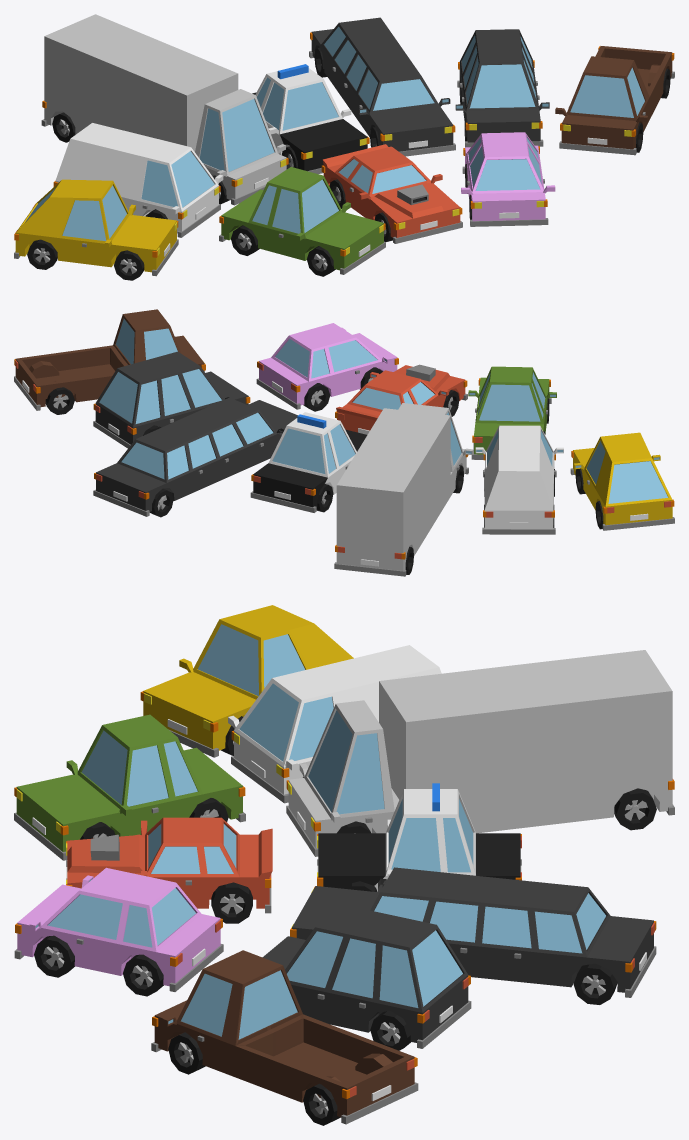
Rendered from cine-own-cars.glb.
3 views of the same model, one above another, from view 1: azimuth 30°, elevation 25°; view 2: azimuth 150°, elevation 25°; view 3: azimuth 270°, elevation 25° (orthographic). The views are drawn at different scales.
Parts seen in each view (by area): view 1: Cube.001, Cube.002, Cube, Cube.009, Cube.005, Cube.006, Cube.003, Cube.007, Cube.004, Cube.008; view 2: Cube.001, Cube.002, Cube.006, Cube.007, Cube.008, Cube.005, Cube, Cube.004, Cube.003, Cube.009; view 3: Cube.001, Cube.002, Cube.006, Cube.007, Cube.009, Cube.008, Cube, Cube.003, Cube.005, Cube.004.
Part boxes in pixels (x1,y1,x2,y2): Cube.001: (41,14,288,205); Cube.002: (309,17,455,156); Cube: (14,179,178,280); Cube.009: (219,167,385,276); Cube.005: (53,123,223,237); Cube.006: (555,46,674,155); Cube.003: (321,144,462,243); Cube.007: (455,29,549,147); Cube.004: (252,64,369,174); Cube.008: (461,132,555,226); Cube.001: (334,403,473,576); Cube.002: (93,397,297,517); Cube.006: (14,309,205,414); Cube.007: (93,351,250,448); Cube.008: (256,323,398,411); Cube.005: (475,425,563,534); Cube: (570,432,674,530); Cube.004: (250,412,367,512); Cube.003: (335,364,467,434); Cube.009: (468,366,556,459); Cube.001: (286,650,674,856); Cube.002: (290,867,656,1004); Cube.006: (151,950,418,1125); Cube.007: (262,904,471,1050); Cube.009: (14,714,245,860); Cube.008: (14,867,223,996); Cube: (140,605,353,757); Cube.003: (66,817,272,923); Cube.005: (228,645,441,803); Cube.004: (317,783,521,892).
Size of the model in its own units: 21.5 by 2.92 by 13.07.
1 material, 1 textured.
